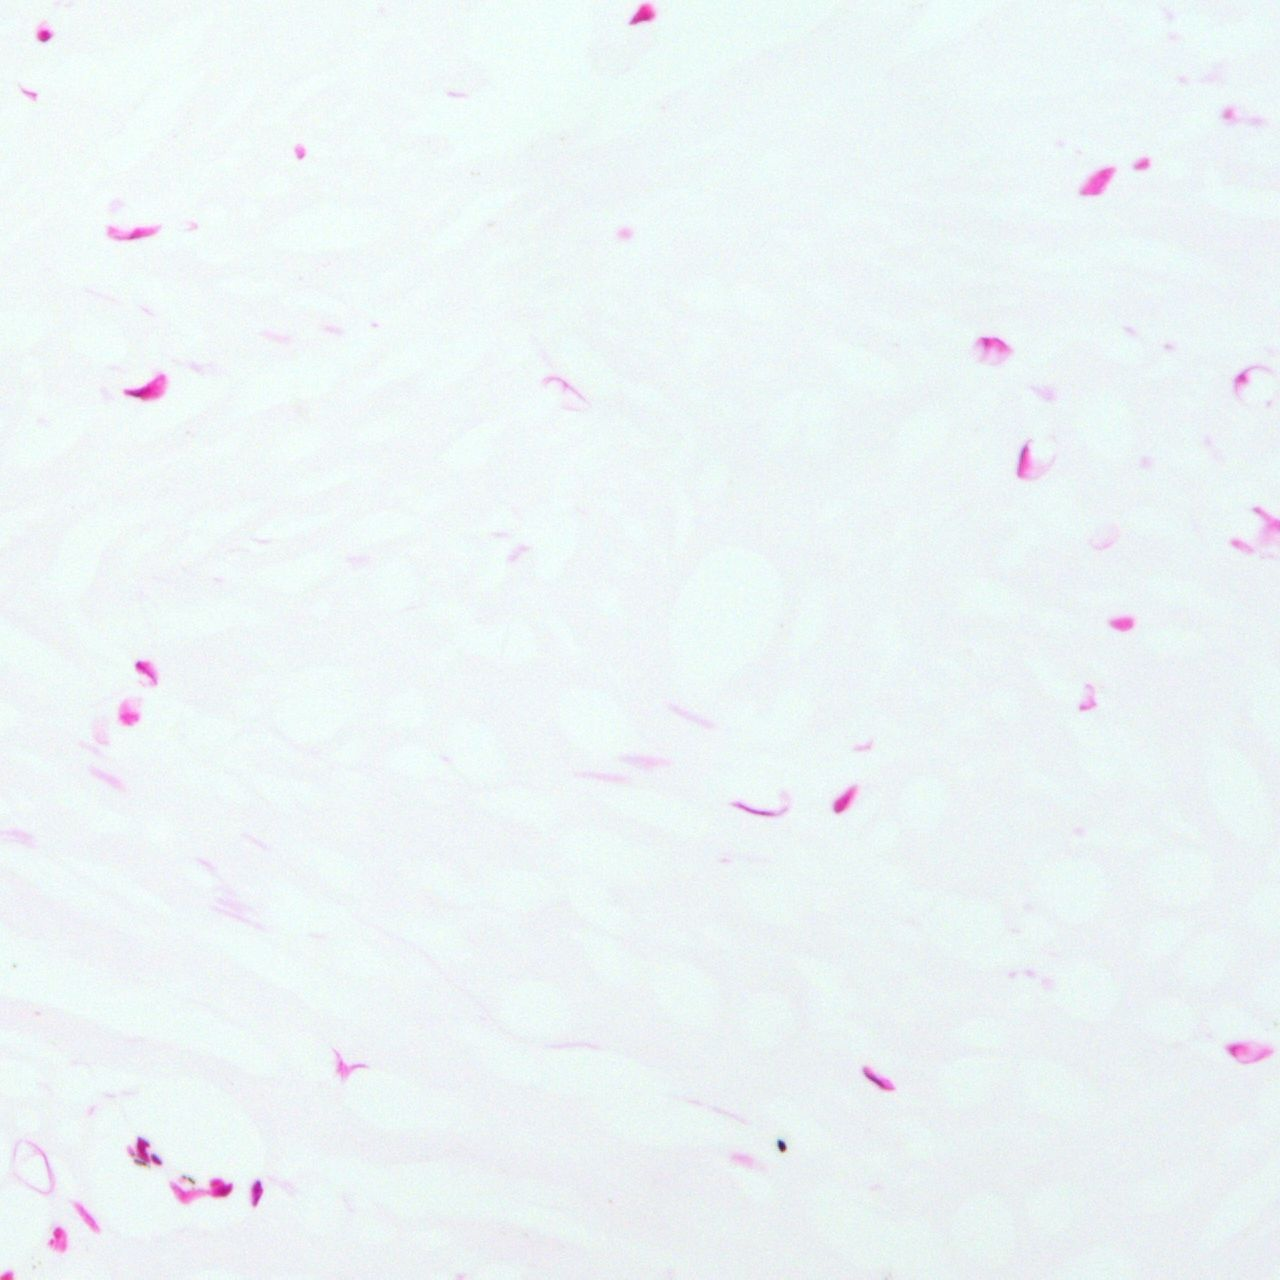dust: (776, 1138, 787, 1152)
nucleus-FG: (122, 369, 173, 409), (1015, 440, 1055, 483), (971, 334, 1014, 367), (860, 1065, 899, 1096), (132, 654, 165, 689), (830, 781, 860, 815), (107, 224, 158, 239), (207, 1177, 233, 1197), (250, 1180, 263, 1205), (136, 1137, 149, 1160), (148, 1151, 163, 1167), (38, 28, 52, 41), (188, 1176, 196, 1184)
